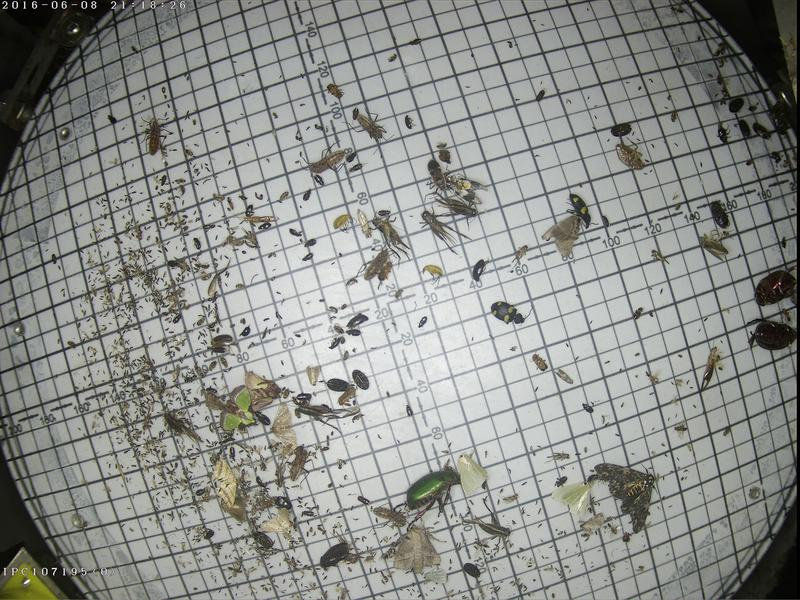Spodoptera exigua: (303, 363, 318, 384)
